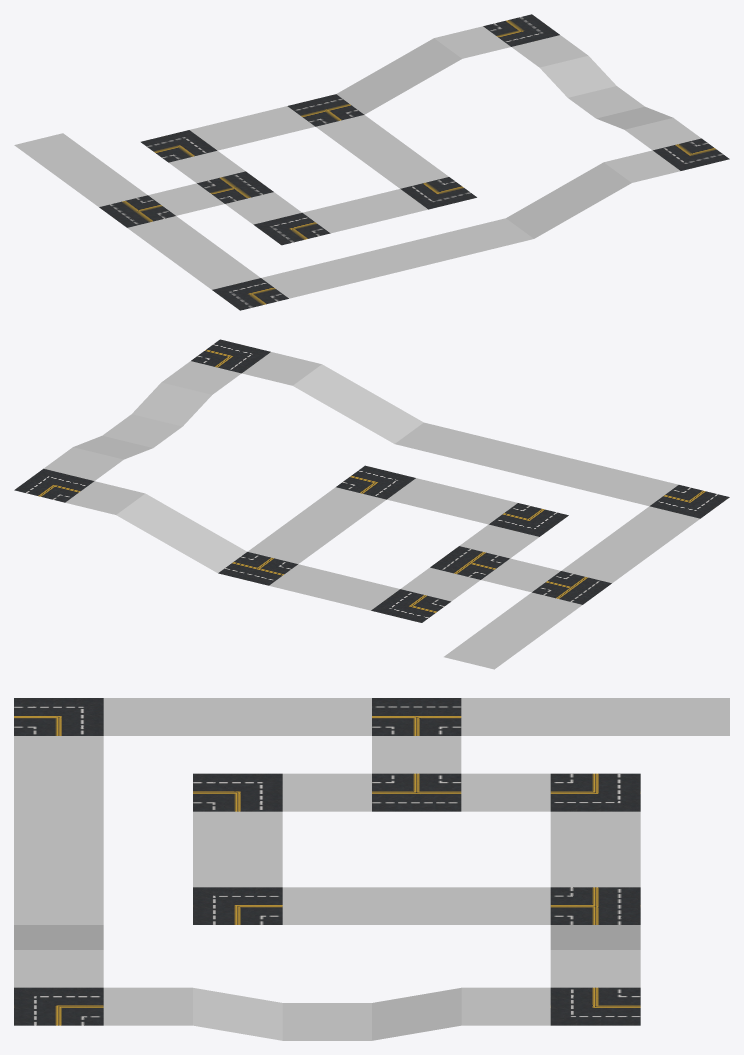
Rendered from ai_testlevel.obj.
The picture shows the model from 3 angles, top to bottom: view 1: azimuth 30°, elevation 25°; view 2: azimuth 150°, elevation 25°; view 3: azimuth 270°, elevation 25°; orthographic projection. The views are drawn at different scales.
Parts seen in each view (by area): view 1: ROAD_Plane.001; view 2: ROAD_Plane.001; view 3: ROAD_Plane.001.
Part boxes in pixels (left/top/right/bottom): ROAD_Plane.001: left=14, top=14, right=729, bottom=310; ROAD_Plane.001: left=14, top=339, right=729, bottom=669; ROAD_Plane.001: left=14, top=698, right=729, bottom=1040.
Size of the model in its own units: 160 by 10.02 by 128.
